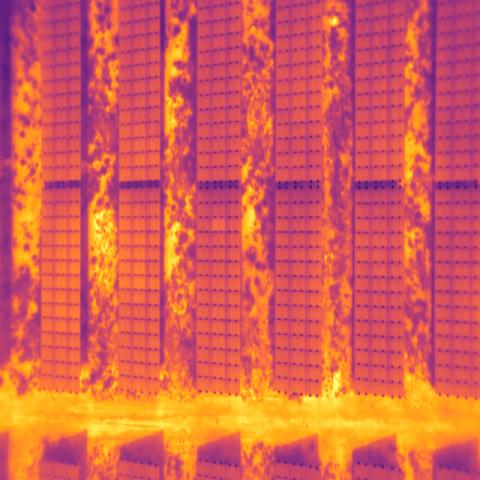fault: (212, 217, 226, 233)
